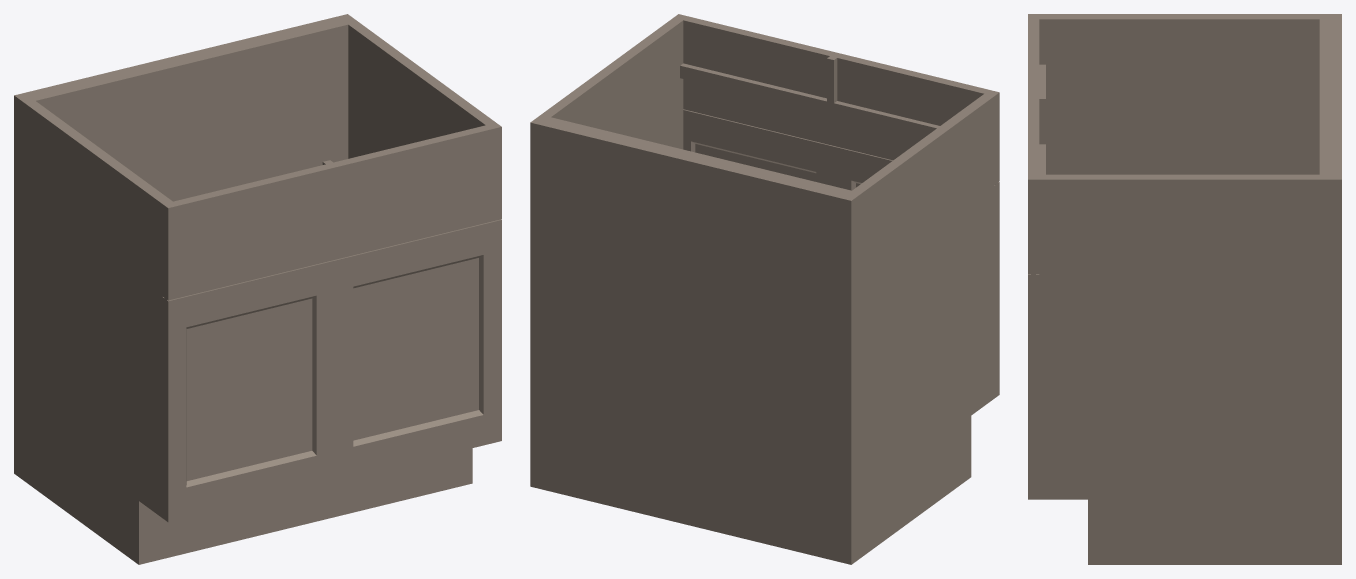
Rendered from Universal-Design-Sink-Base-Cabinet-Double_std_001_W30in.glb.
3 views of the same model, side by side, from view 1: azimuth 30°, elevation 25°; view 2: azimuth 150°, elevation 25°; view 3: azimuth 270°, elevation 25° (orthographic). The views are drawn at different scales.
Parts seen in each view (by area): view 1: Universal-Design-Sink-Base-Cabinet-Double.std.001_W30in; view 2: Universal-Design-Sink-Base-Cabinet-Double.std.001_W30in; view 3: Universal-Design-Sink-Base-Cabinet-Double.std.001_W30in.
Part boxes in pixels (x1,y1,x2,y2): Universal-Design-Sink-Base-Cabinet-Double.std.001_W30in: (14, 14, 501, 564); Universal-Design-Sink-Base-Cabinet-Double.std.001_W30in: (530, 14, 999, 564); Universal-Design-Sink-Base-Cabinet-Double.std.001_W30in: (1028, 14, 1341, 564).
Bounding box in the file's own units: 0.762 × 0.8255 × 0.6096.
